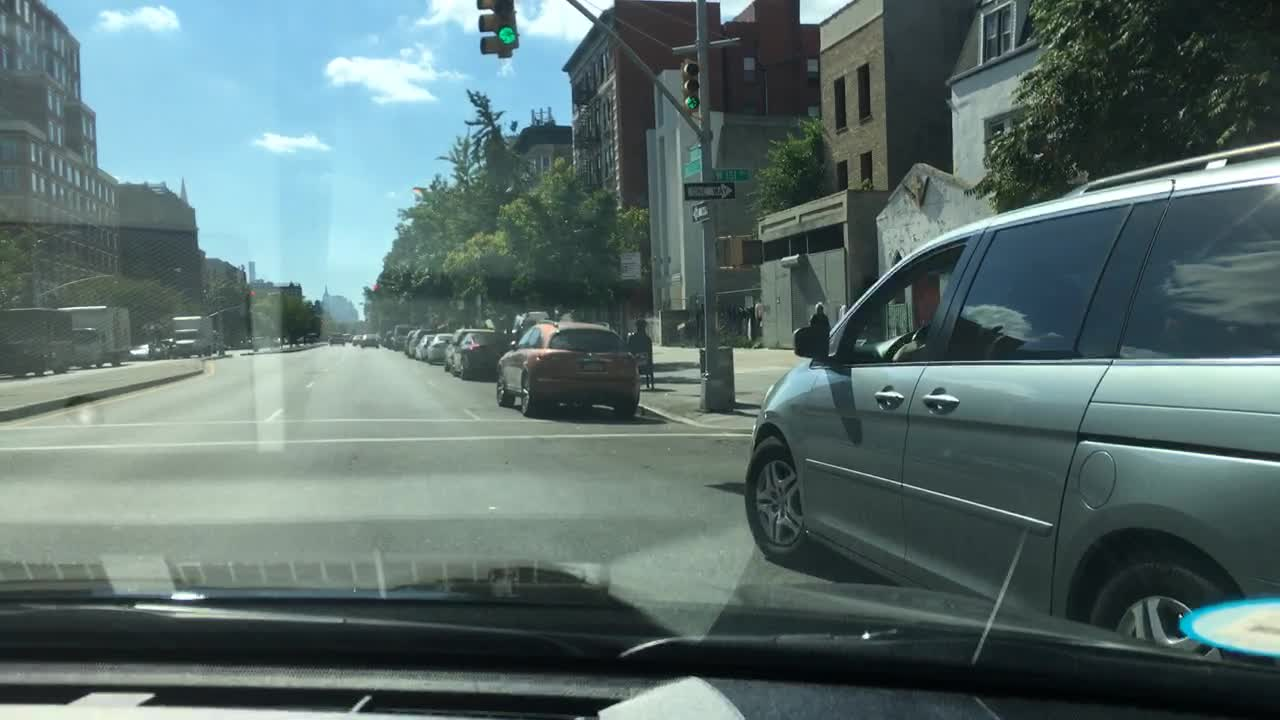car: (742, 135, 1278, 673), (493, 312, 644, 419), (0, 305, 74, 376), (442, 326, 514, 381), (509, 309, 552, 346), (408, 326, 438, 359), (425, 331, 455, 364), (381, 322, 414, 350), (413, 333, 438, 359), (151, 336, 176, 358), (128, 342, 151, 361), (359, 330, 381, 349), (402, 329, 418, 354), (210, 329, 225, 353), (326, 330, 346, 347), (379, 327, 393, 347), (303, 330, 322, 342), (350, 331, 363, 347), (250, 336, 267, 348), (240, 334, 254, 348), (341, 332, 354, 344), (274, 336, 288, 345), (296, 334, 310, 342)
person: (624, 318, 653, 374), (807, 300, 833, 338), (144, 323, 158, 360)
traffic light: (497, 0, 521, 57), (680, 56, 702, 114), (475, 0, 493, 53)
traffic sign: (682, 179, 737, 201), (618, 251, 642, 283), (711, 167, 752, 183), (688, 199, 712, 224), (680, 160, 703, 181), (686, 140, 703, 162)
truck: (54, 305, 132, 368), (168, 313, 214, 358)
